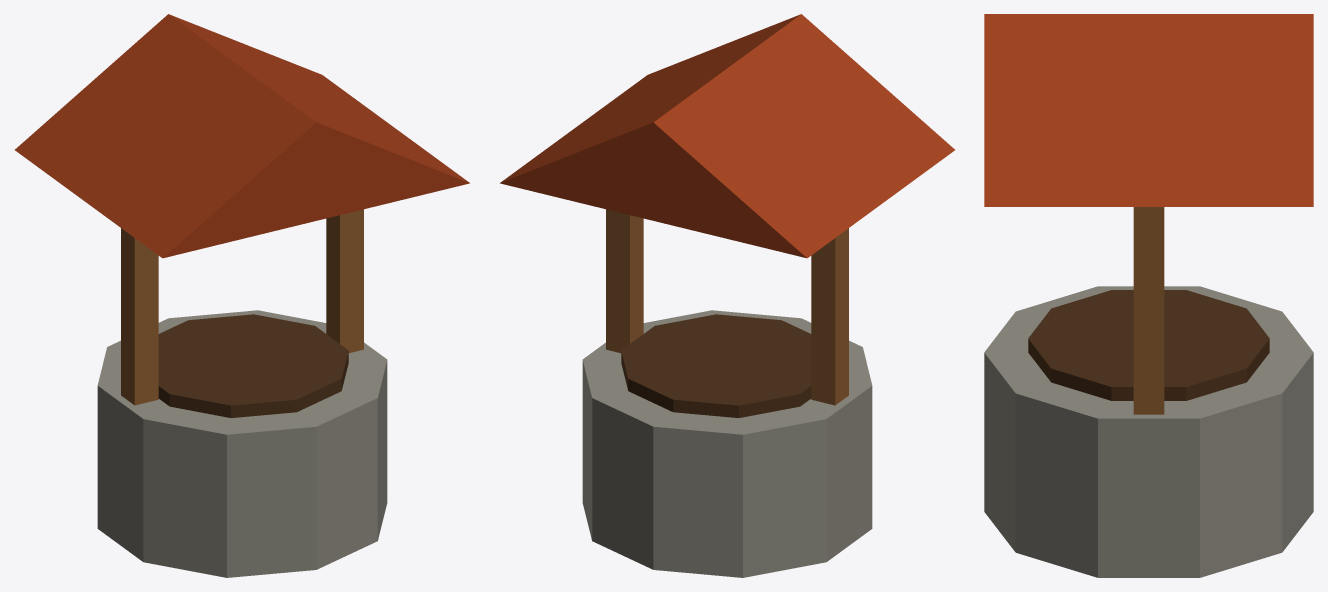
The model's file is well.glb.
The picture shows the model from 3 angles, left to right: view 1: azimuth 30°, elevation 25°; view 2: azimuth 150°, elevation 25°; view 3: azimuth 270°, elevation 25°; orthographic projection. The views are drawn at different scales.
Visible parts, largest first — view 1: well; view 2: well; view 3: well.
Boxes of the visible parts, x1=… form: well: x1=15, y1=14, x2=469, y2=577; well: x1=500, y1=14, x2=954, y2=577; well: x1=984, y1=14, x2=1313, y2=577.
Size of the model in its own units: 1.8 by 2.5 by 1.5.
